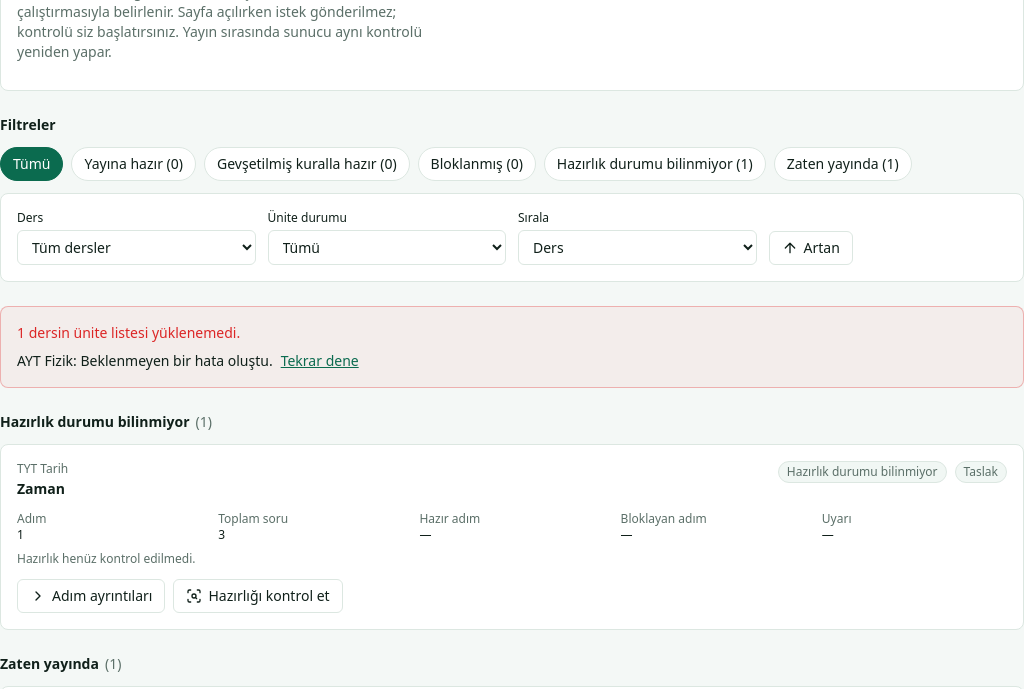
it: PublishingCenter states › reports a course whose unit list failed and retries it
Expected: the text "1 dersin ünite listesi yüklenemedi." is shown, [17,323,240,342]
What coordinates should you click on to do the following:
click the button "Tekrar dene"
I would click on:
 (320, 361)
Its box is [281,351,359,371].
(page scrolled)
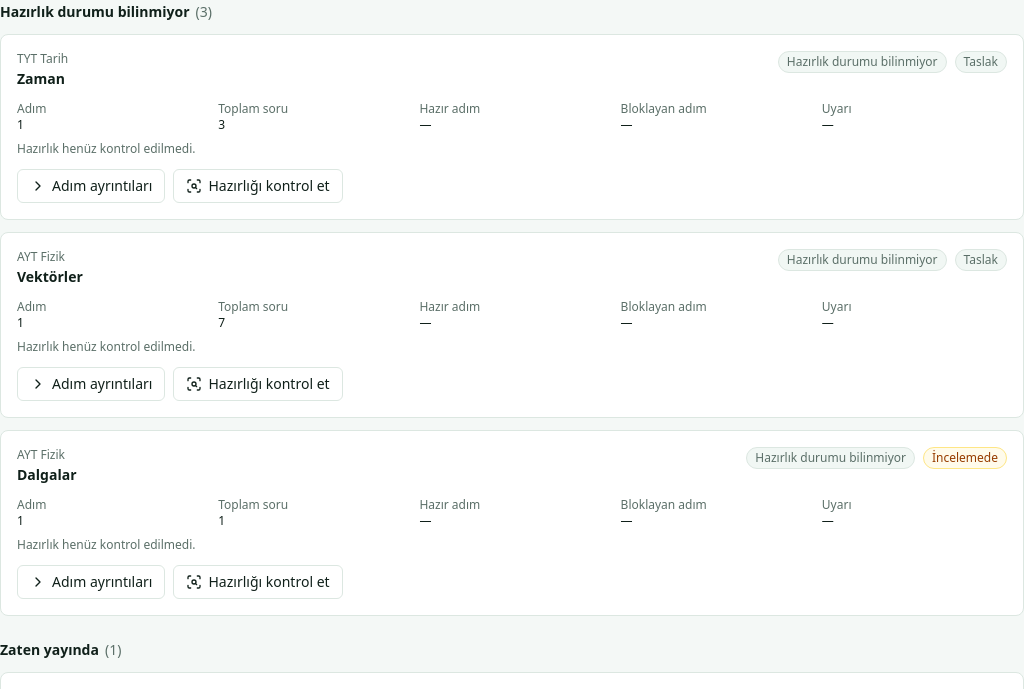
Expected: the text "1 dersin ünite listesi yüklenemedi." is gone
Expected: the element "Vektörler" is shown, [0,232,1023,418]
